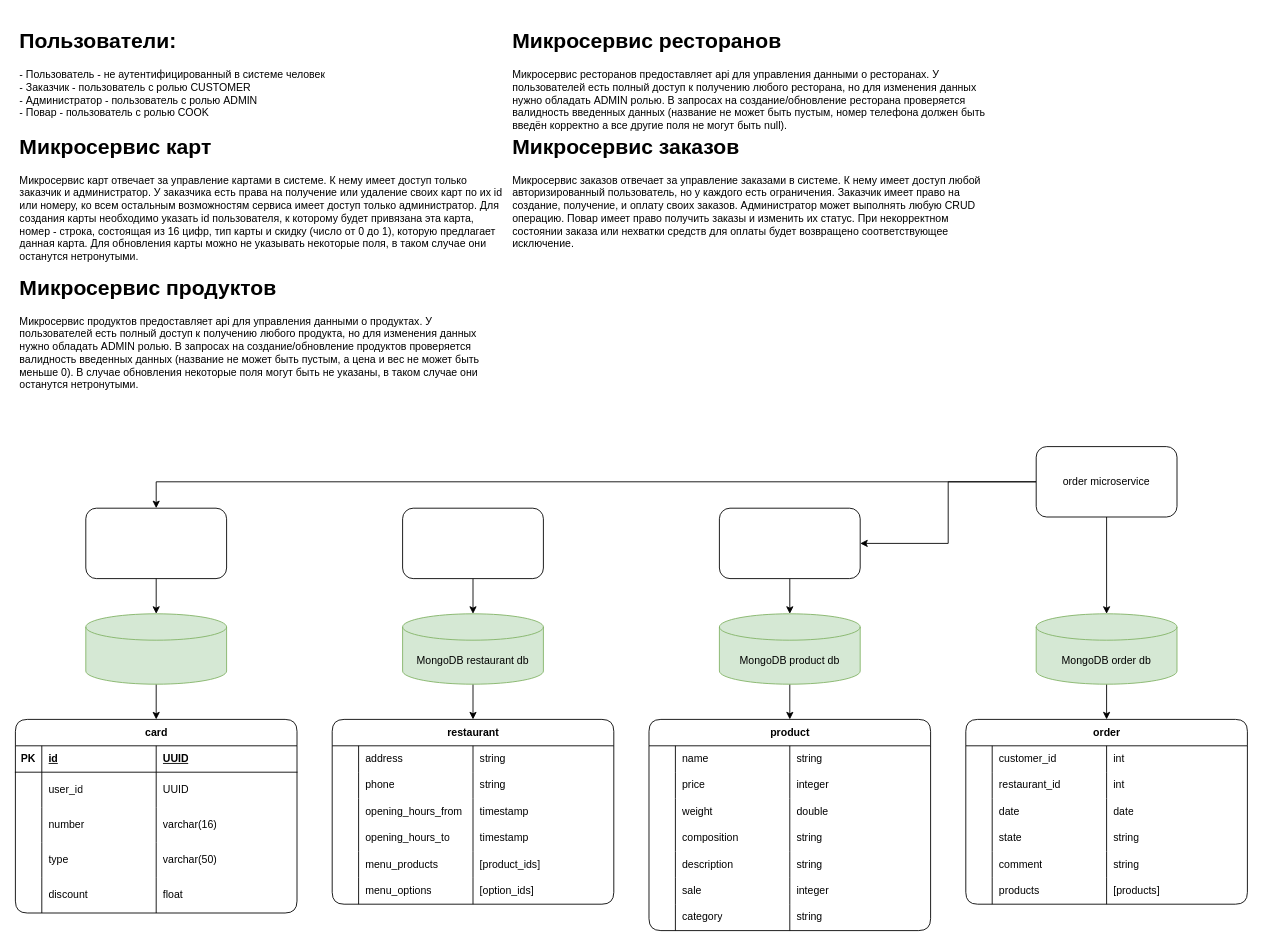
This 1263x946 diagram has some shape labels left out. The centre of each missing label's shape, as x and y in pixels:
card microservice: the point at 156,543
MongoDB card db: the point at 156,648
product microservice: the point at 789,543
restaurant microservice: the point at 472,543
